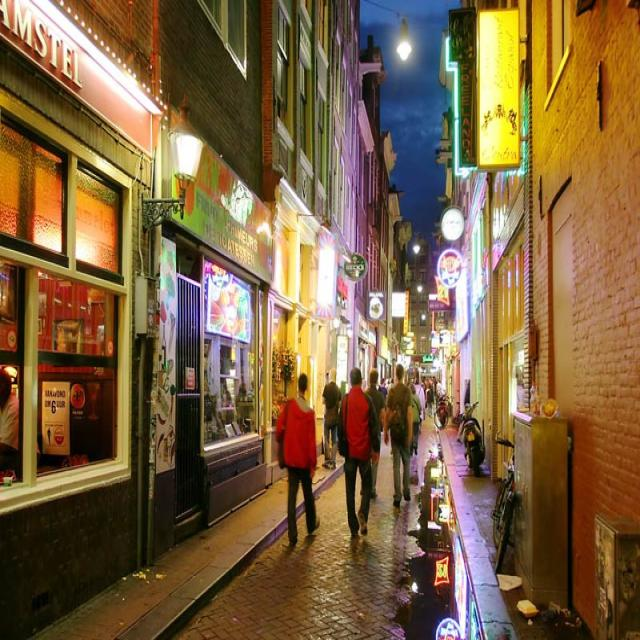body: (272, 372, 322, 548), (334, 363, 382, 538), (252, 529, 318, 628), (0, 366, 45, 480), (330, 536, 387, 621), (382, 362, 413, 508), (358, 367, 388, 501), (455, 368, 483, 444), (322, 367, 342, 471), (390, 500, 412, 584), (425, 373, 450, 416), (408, 382, 422, 458), (412, 375, 426, 424), (378, 368, 393, 390)
